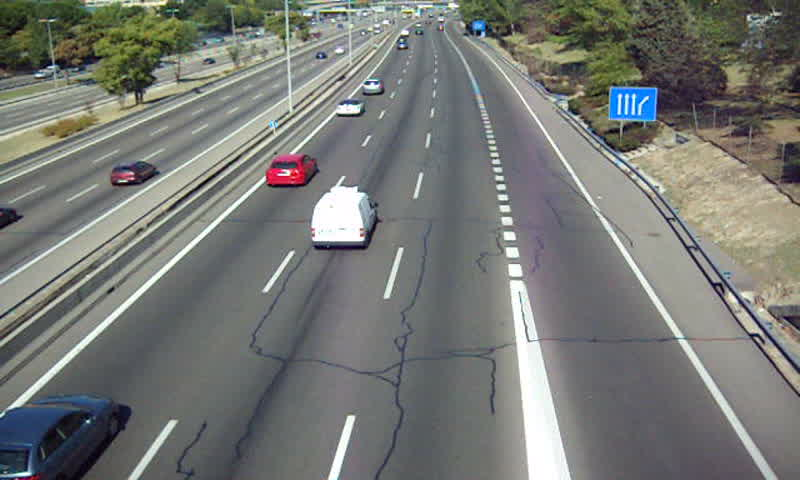car: (1, 395, 117, 480), (266, 154, 316, 186), (336, 99, 366, 117), (361, 77, 384, 95)
van: (311, 186, 378, 248)
